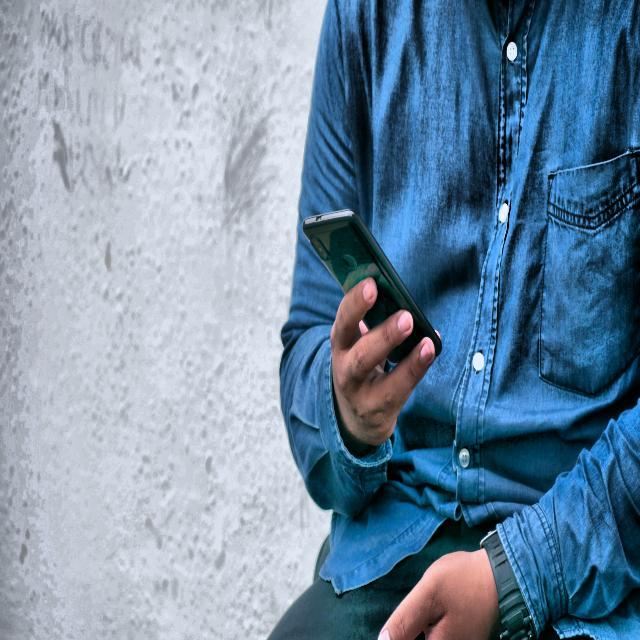Phone: (301, 208, 444, 366)
